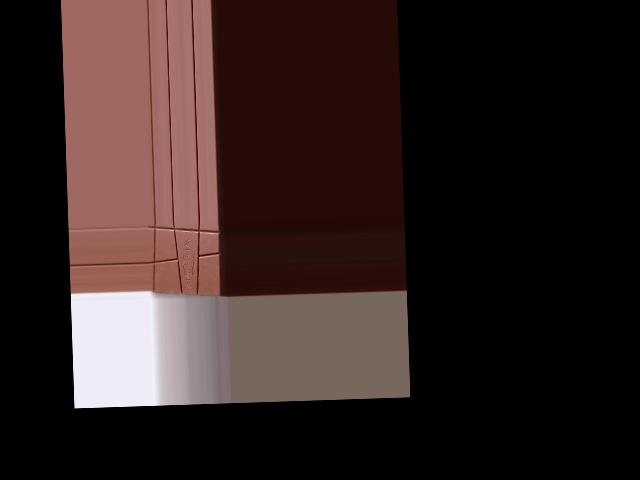chocolate: (148, 219, 224, 300)
